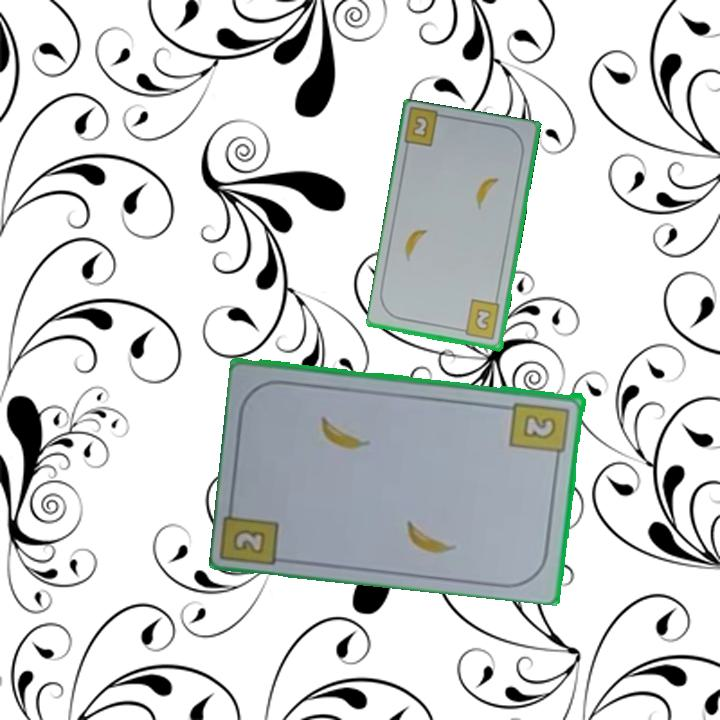2b: (507, 398, 573, 464), (456, 297, 503, 343), (229, 525, 269, 557), (409, 112, 432, 141)
